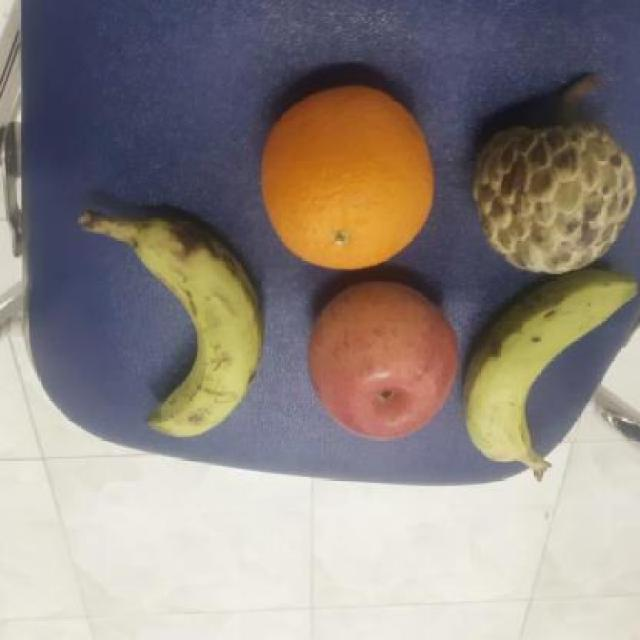apple: (302, 278, 460, 444)
banana: (460, 264, 640, 468), (134, 216, 268, 444)
oren: (259, 80, 433, 272)
sugar apple: (471, 118, 640, 276)
